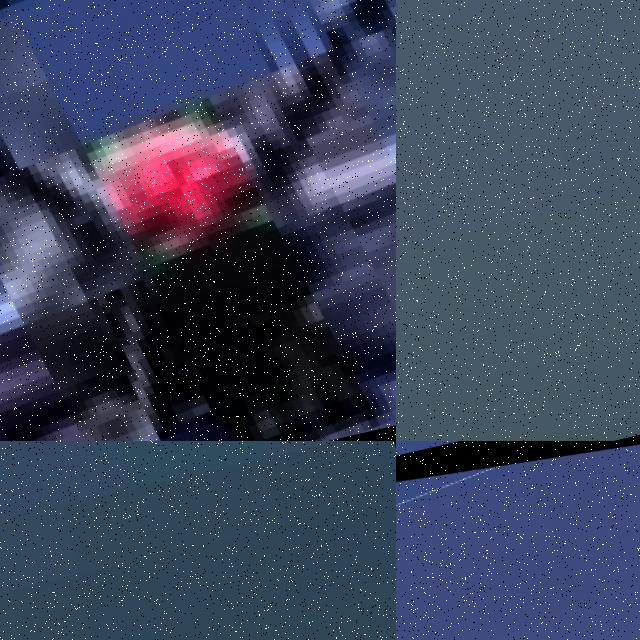drone: (0, 0, 396, 441), (396, 441, 640, 640)
